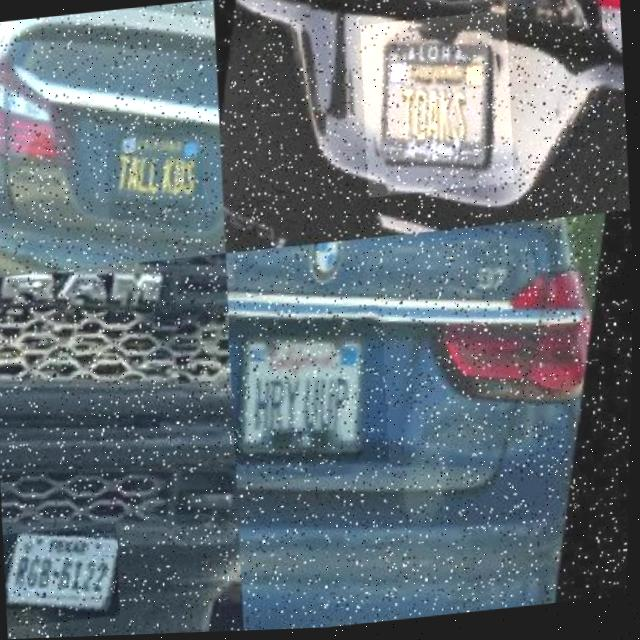LicensePlate: (357, 13, 518, 201), (227, 308, 394, 488), (104, 121, 207, 221), (7, 534, 119, 618)
